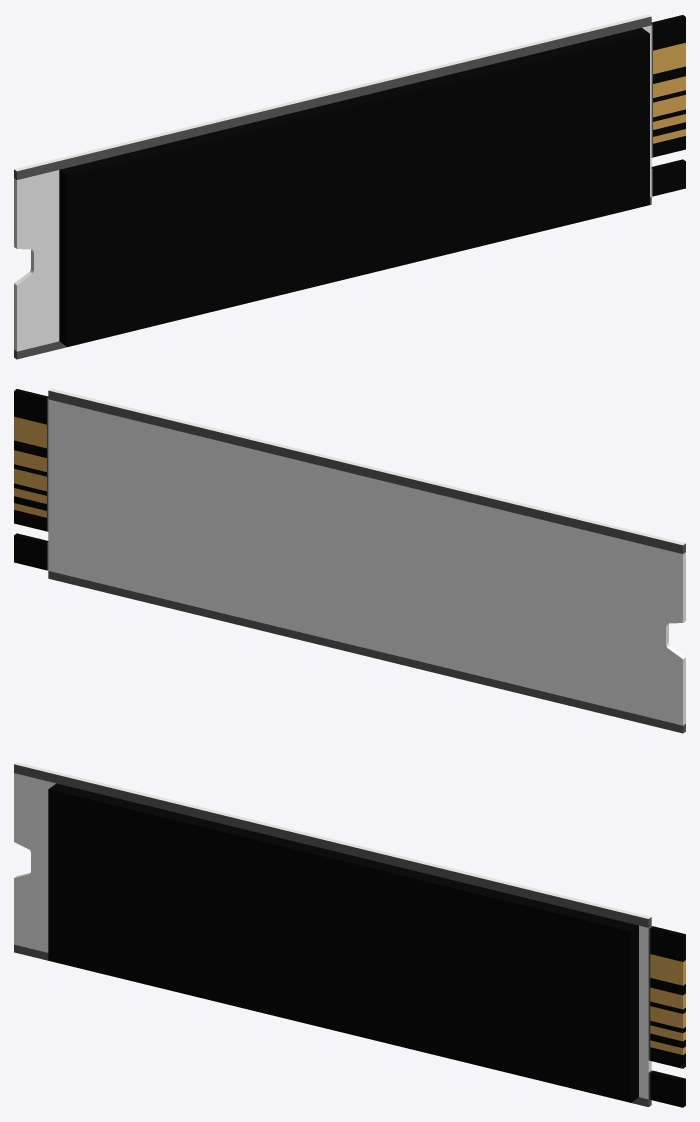
File: m2 ssd.fbx
The picture shows the model from 3 angles, top to bottom: view 1: azimuth 30°, elevation 25°; view 2: azimuth 150°, elevation 25°; view 3: azimuth 330°, elevation 25°; orthographic projection.
Visible parts, largest first — view 1: M.2 SSD.001; view 2: M.2 SSD.001; view 3: M.2 SSD.001.
Part boxes in pixels (x1,y1,x2,y2): M.2 SSD.001: (14,14,685,359); M.2 SSD.001: (14,388,685,733); M.2 SSD.001: (14,762,685,1107).
Bounding box in the file's own units: 58.55 × 15.73 × 1.65.
